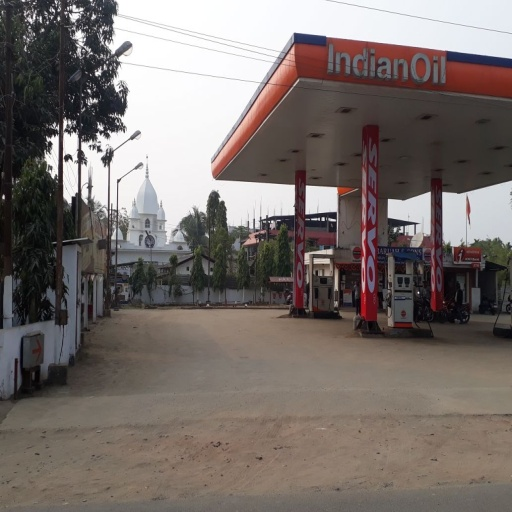roof: (207, 39, 511, 186)
